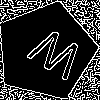W: (21, 26, 87, 89)
